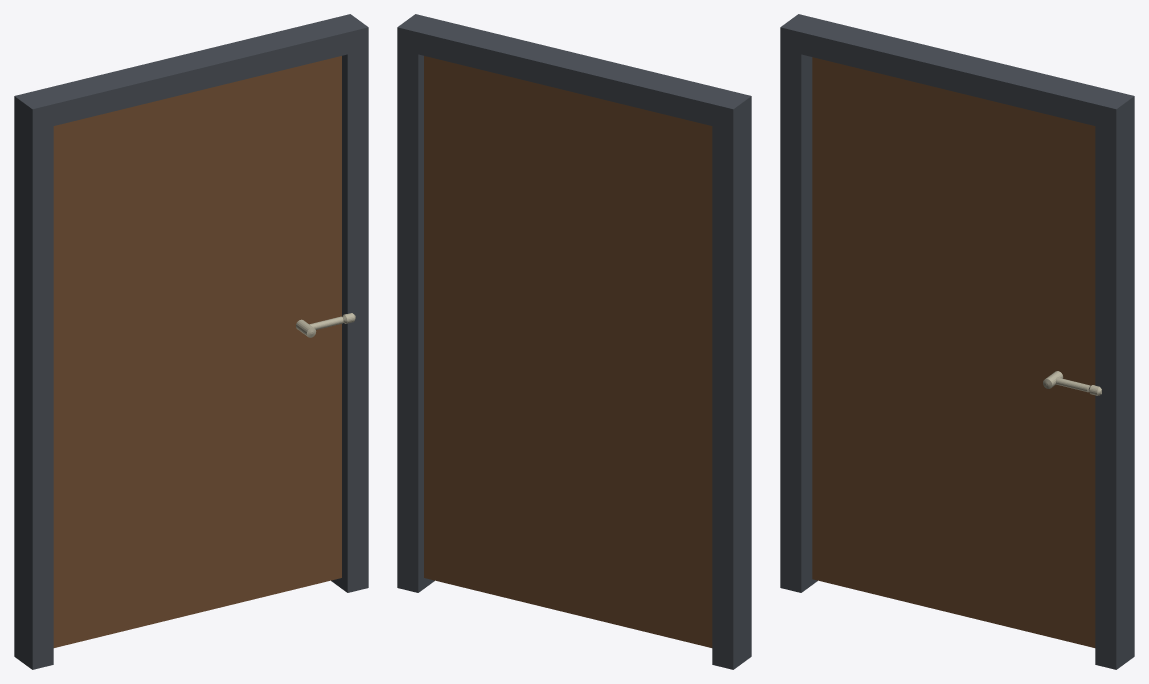
Rendered from lever_door.obj.
The picture shows the model from 3 angles, left to right: view 1: azimuth 30°, elevation 25°; view 2: azimuth 150°, elevation 25°; view 3: azimuth 330°, elevation 25°; orthographic projection.
Visible parts, largest first — view 1: leaf, frame, handle; view 2: leaf, frame; view 3: leaf, frame, handle.
Boxes of the visible parts, box(x1,y1,x2,y2) form: leaf: box(53, 56, 341, 647); frame: box(14, 14, 368, 669); handle: box(296, 313, 355, 337); leaf: box(424, 56, 712, 647); frame: box(397, 14, 751, 669); leaf: box(812, 57, 1095, 647); frame: box(780, 14, 1134, 669); handle: box(1043, 371, 1101, 395).
Bounding box in the file's own units: 1.28 × 2.04 × 0.1625.
